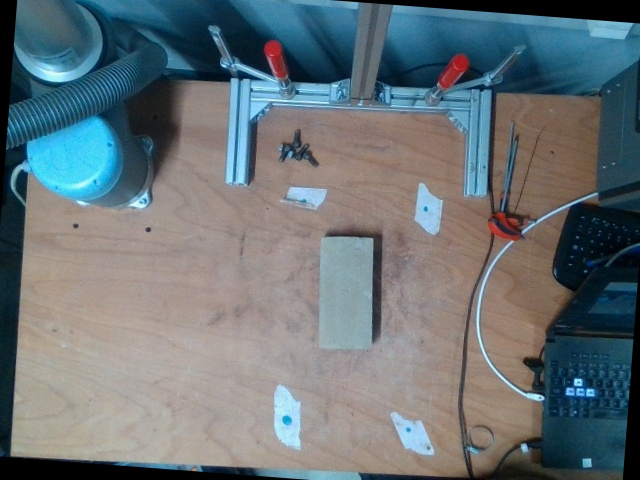brick: (322, 239, 370, 345)
